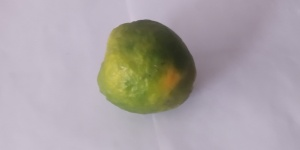BAD: (94, 19, 200, 117)
